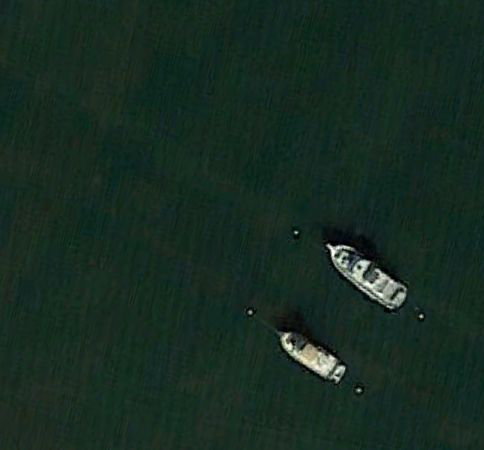boat: (326, 241, 408, 310), (271, 327, 347, 383)
